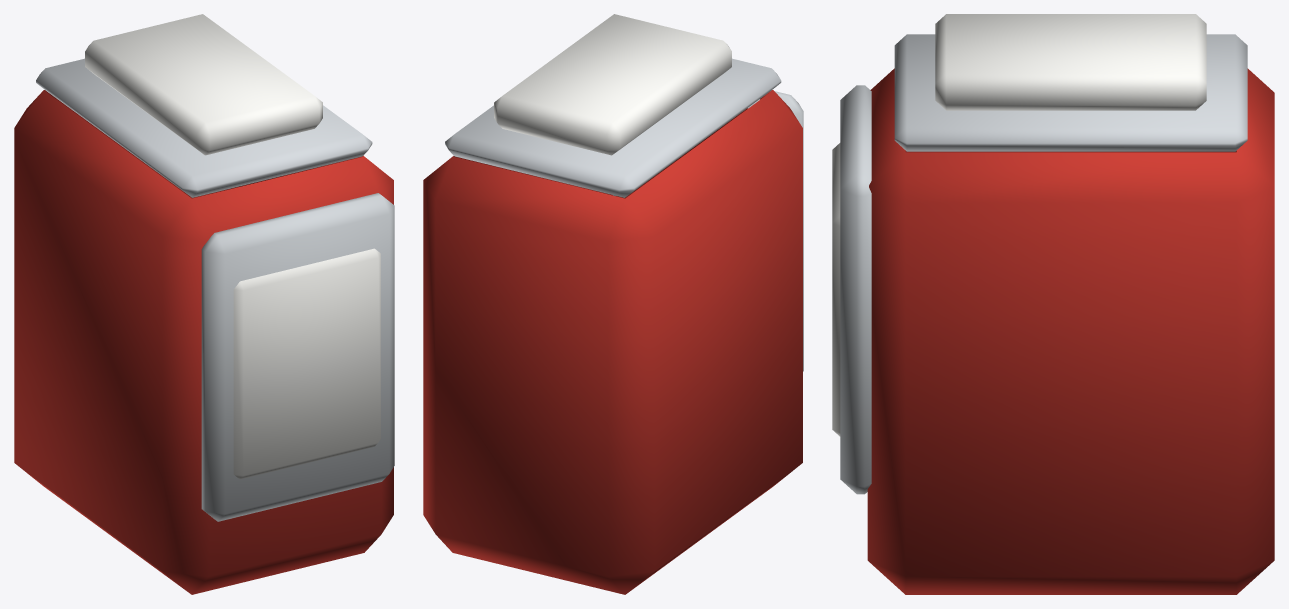
Rendered from SM_NapkinDispenser_01.glb.
The picture shows the model from 3 angles, left to right: view 1: azimuth 30°, elevation 25°; view 2: azimuth 150°, elevation 25°; view 3: azimuth 270°, elevation 25°; orthographic projection. The views are drawn at different scales.
Visible parts, largest first — view 1: SM_NapkinDispenser_01; view 2: SM_NapkinDispenser_01; view 3: SM_NapkinDispenser_01.
Part boxes in pixels (bbox=[...]): SM_NapkinDispenser_01: bbox=[14, 14, 394, 594]; SM_NapkinDispenser_01: bbox=[423, 14, 803, 594]; SM_NapkinDispenser_01: bbox=[832, 14, 1274, 594].
Size of the model in its own units: 0.11 by 0.205 by 0.163.
1 material, 1 textured.
